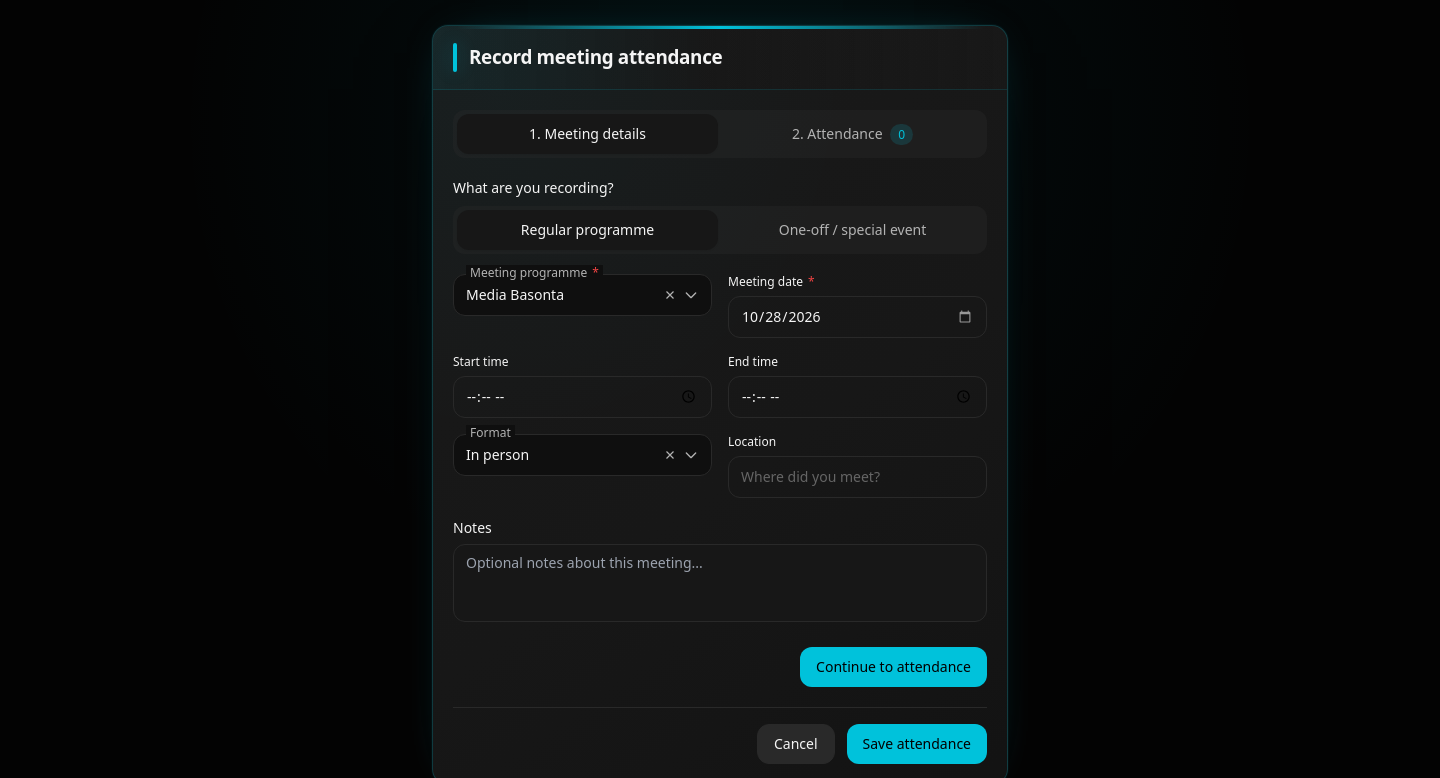
Test: MeetingForm regular expectations › preloads the programme expectation list without recording attendance until explicitly selected
Click the button "2. Attendance 0": coordinates (852, 134) [722,114,983,154]
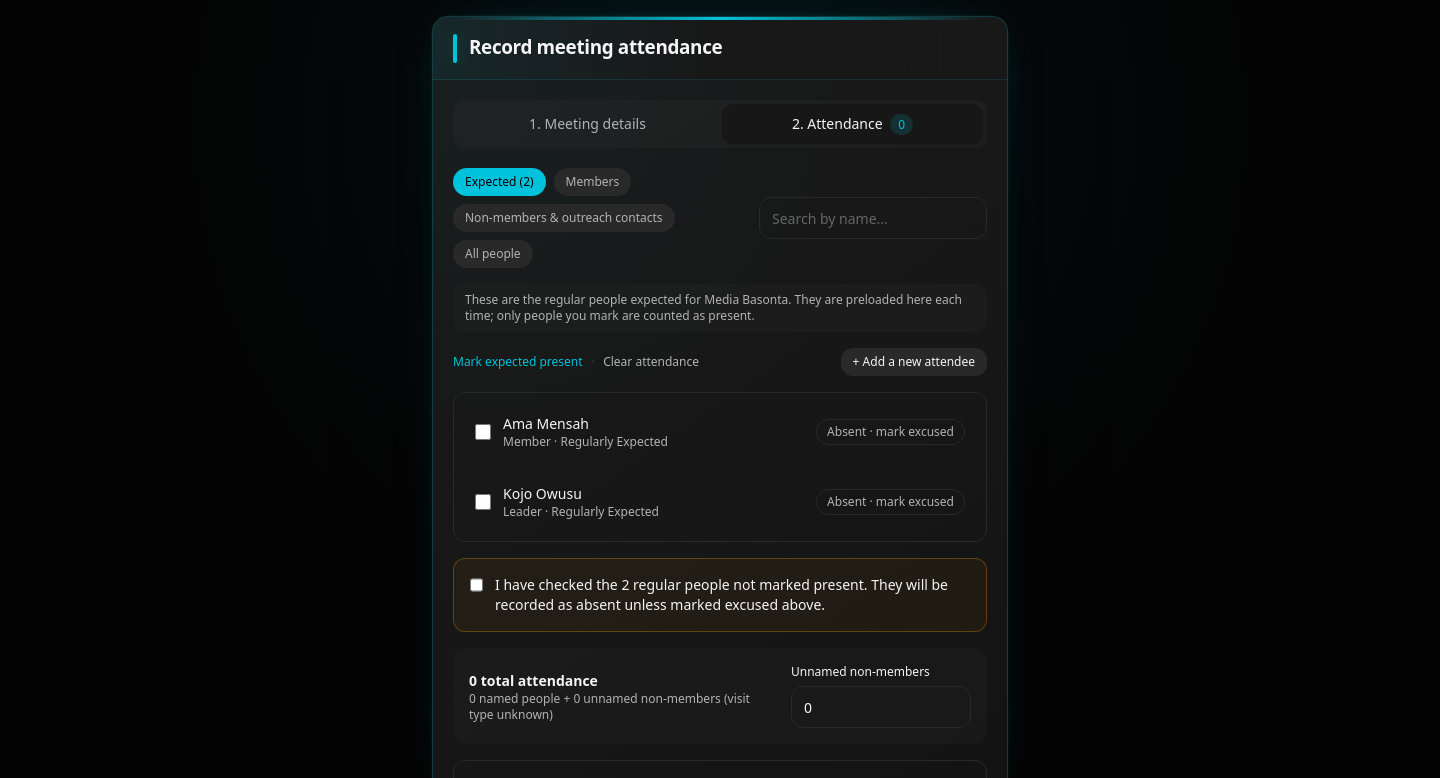
Check: the button "Expected (2)" is shown, box [453,168,546,196]
Check: the text "preloaded here each time" is shown, box [465,291,962,324]
Check: the text "0 total attendance" is shown, box [469,671,598,690]
Click the button "Mark expected present": coordinates (518, 362) [453,354,583,370]
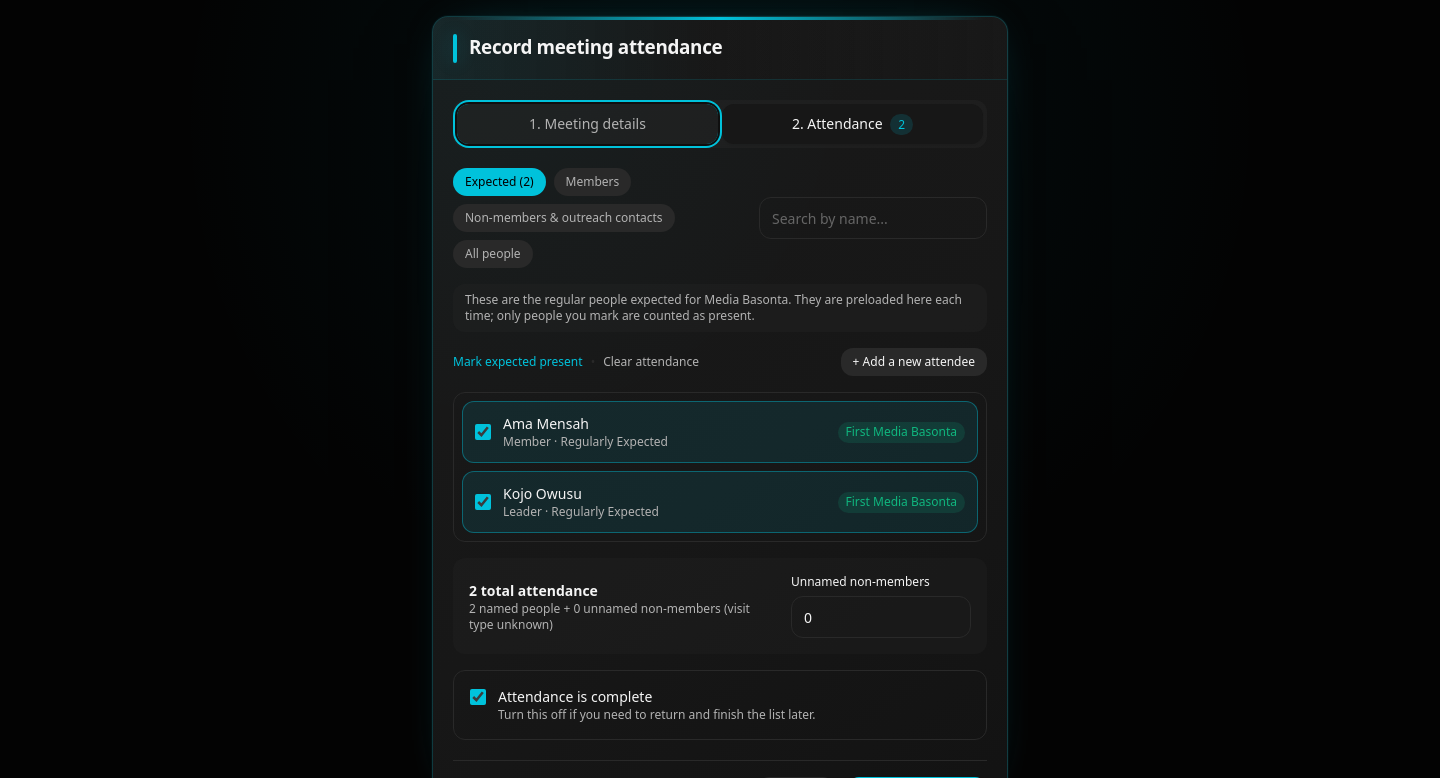
Check: the text "2 total attendance" is shown, box [469,581,598,600]
